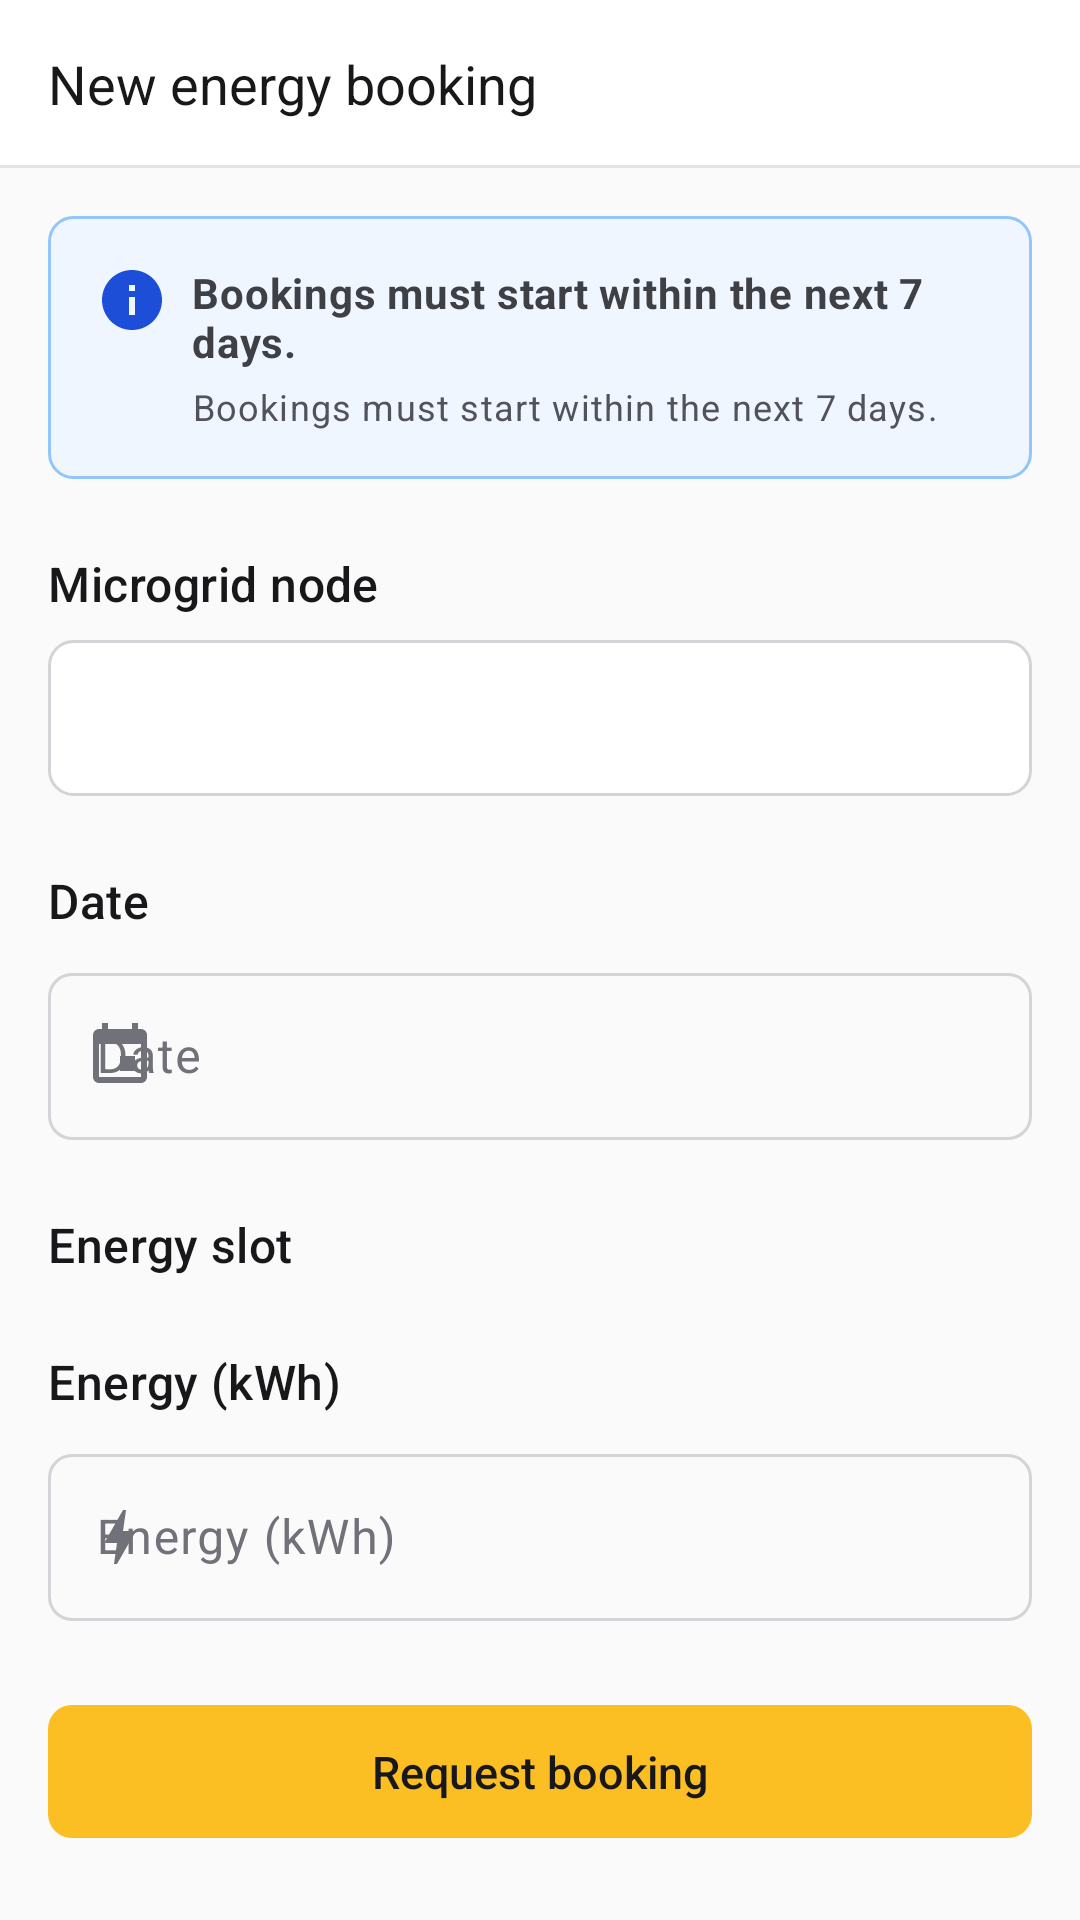

Icon bounding boxes for this 1080 x 1920 phone screenshot, format (x1, y1, x2, y2):
info: (102, 270, 162, 330)
